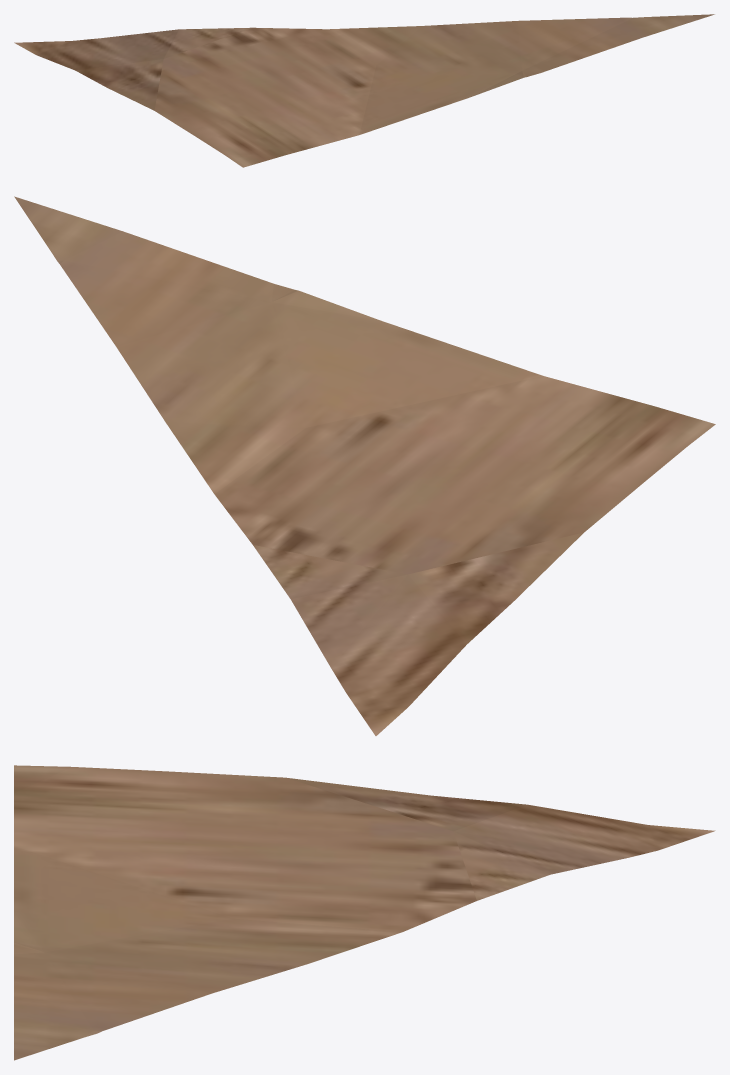
The picture shows the model from 3 angles, top to bottom: view 1: azimuth 30°, elevation 25°; view 2: azimuth 150°, elevation 25°; view 3: azimuth 270°, elevation 25°; orthographic projection. The views are drawn at different scales.
Bounding box in the file's own units: 1.16 × 0.1898 × 0.9747.
1 material, 1 textured.
